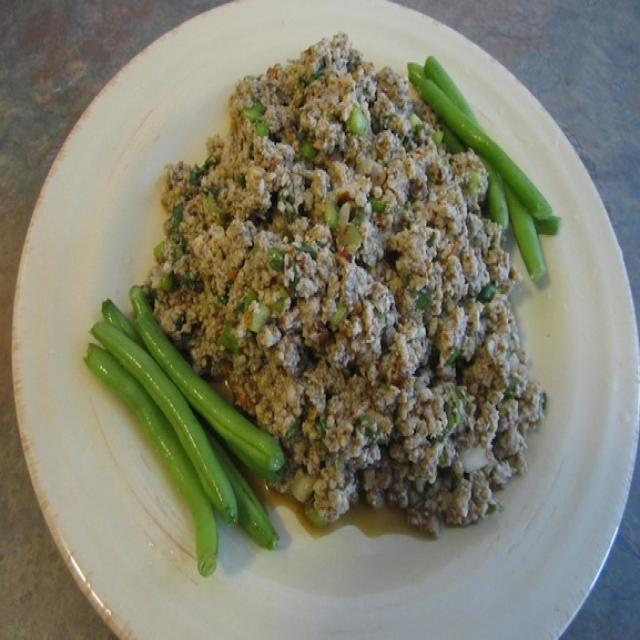鸡肉料理 含炸鸡: (48, 26, 606, 608)
